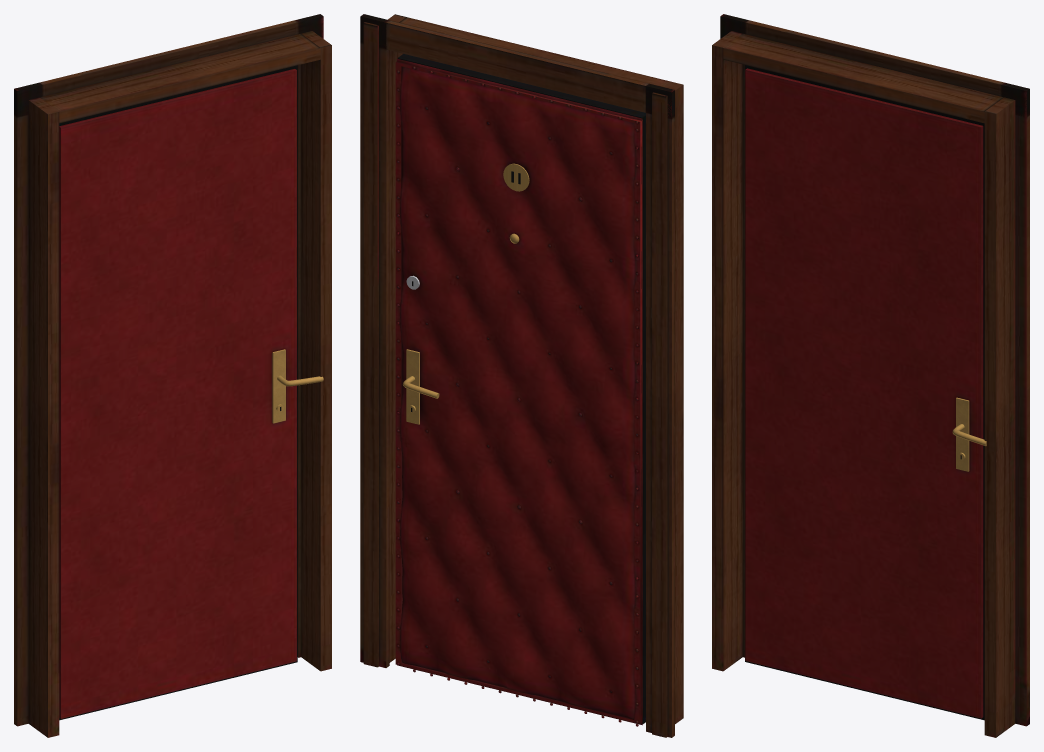
The model's file is pdoor_red_web.glb.
The picture shows the model from 3 angles, left to right: view 1: azimuth 30°, elevation 25°; view 2: azimuth 150°, elevation 25°; view 3: azimuth 330°, elevation 25°; orthographic projection.
Visible parts, largest first — view 1: Door_Mesh, Frame_Mesh, Chrome_Hw_Handle_In; view 2: Door_Mesh, Frame_Mesh, Chrome_Hw_Handle, Chrome_Hw_Number; view 3: Door_Mesh, Frame_Mesh, Chrome_Hw_Handle_In.
Part boxes in pixels (x1,y1,x2,y2): Door_Mesh: (59, 65, 297, 720); Frame_Mesh: (14, 14, 331, 737); Chrome_Hw_Handle_In: (272, 349, 323, 423); Door_Mesh: (395, 54, 645, 726); Frame_Mesh: (360, 14, 683, 737); Chrome_Hw_Handle: (403, 349, 439, 424); Chrome_Hw_Number: (503, 163, 529, 191); Door_Mesh: (745, 65, 984, 720); Frame_Mesh: (712, 14, 1029, 737); Chrome_Hw_Handle_In: (952, 397, 986, 471).
Bounding box in the file's own units: 1.09 × 2.16 × 0.2269.
Materials: 4 (4 with a texture image).
